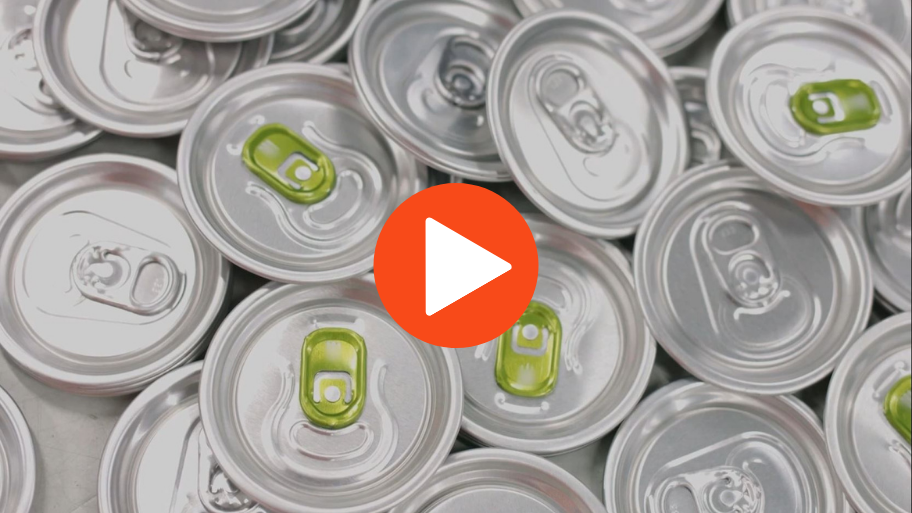can: (4, 2, 912, 513)
